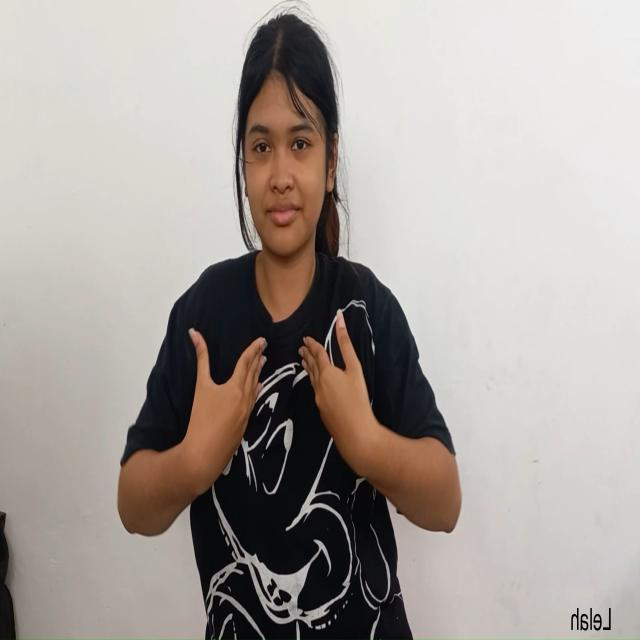Lelah -BISINDO-: (108, 295, 469, 579)
